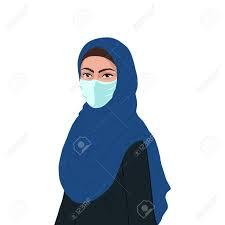Wearing Mask: (66, 35, 144, 110)
